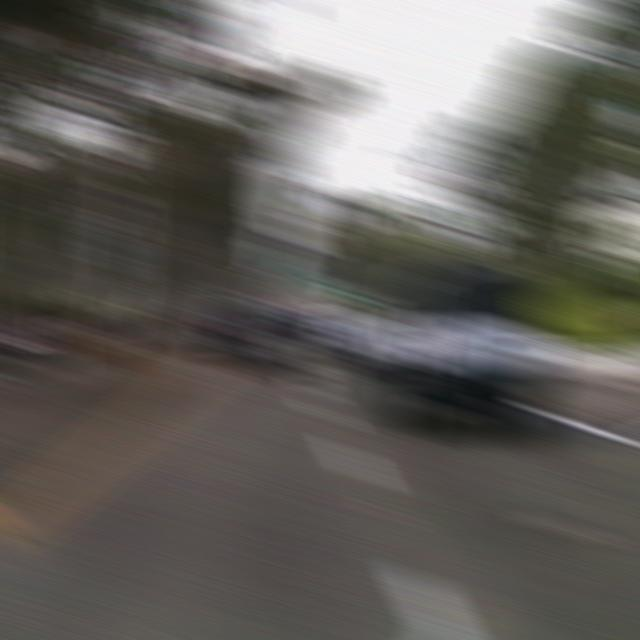speedLimit45: (89, 224, 136, 275)
